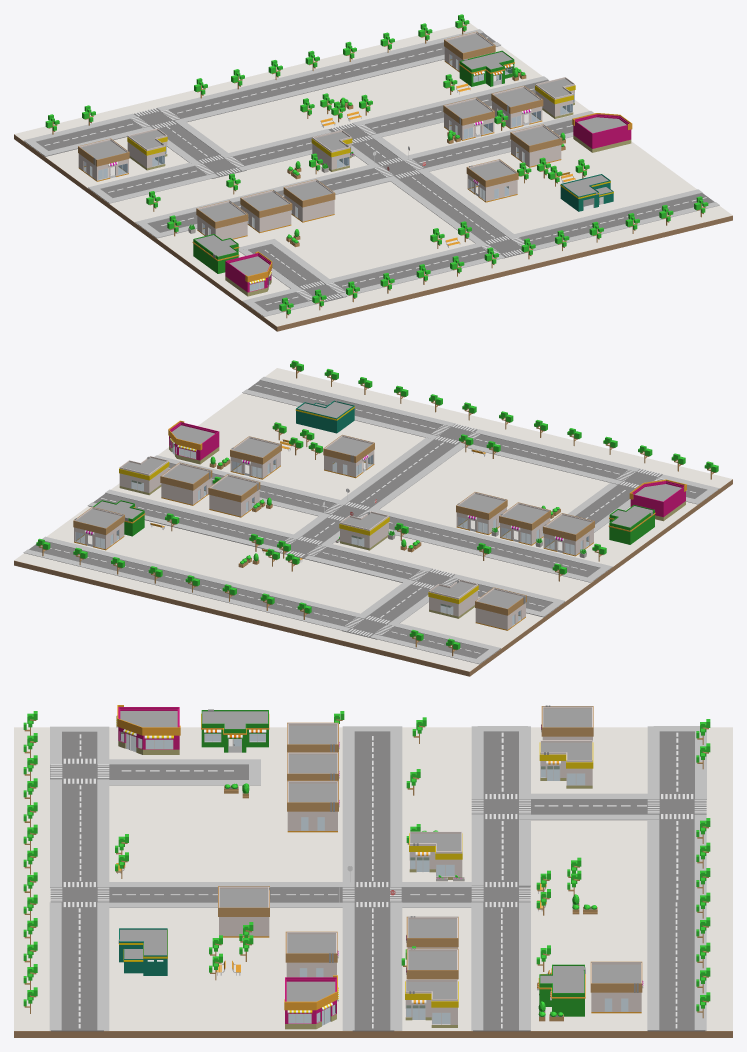
File: Instacart_Project_Background_v2.gltf
3 renders of one model, top to bottom at view 1: azimuth 30°, elevation 25°; view 2: azimuth 150°, elevation 25°; view 3: azimuth 270°, elevation 25°, orthographic. The views are drawn at different scales.
Visible parts, largest first — view 1: Plane, House-Pink Light (×11), Cube.384, Cube.252, Cube, Cube.111, Cube.107, Cube.110, Cube.351, House.1-Mat.5 (×2), House.2-Mat.9 (×2), Cube.27 (+18 smaller); view 2: Plane, House-Pink Light (×12), Cube.384, Cube.252, Cube.111, Cube, Cube.107, Cube.110, Cube.27, Cube.26, House.1-Mat.5 (×2), Cube.351 (+20 smaller); view 3: Plane, Roof (×17), Cube.107, Cube.384, Cube.111, Cube.252, House-Pink Light (×7), Cube, Cube.110, House-Brown (×7), Cube.351, Cube.317 (+28 smaller).
Part boxes in pixels (bbox=[...]): Plane: bbox=[14, 23, 732, 326]; House-Pink Light (×11): bbox=[78, 77, 574, 239]; Cube.384: bbox=[24, 33, 500, 156]; Cube.252: bbox=[254, 193, 714, 316]; Cube: bbox=[14, 134, 732, 331]; Cube.111: bbox=[88, 80, 548, 203]; Cube.107: bbox=[139, 120, 573, 234]; Cube.110: bbox=[343, 124, 527, 258]; Cube.351: bbox=[131, 108, 246, 178]; House.1-Mat.5 (×2): bbox=[225, 114, 631, 292]; House.2-Mat.9 (×2): bbox=[193, 50, 514, 273]; Cube.27: bbox=[157, 29, 483, 111]; Plane: bbox=[14, 368, 732, 671]; House-Pink Light (×12): bbox=[74, 435, 593, 629]; Cube.384: bbox=[29, 541, 500, 664]; Cube.252: bbox=[247, 380, 718, 498]; Cube.111: bbox=[89, 493, 564, 617]; Cube: bbox=[14, 479, 732, 676]; Cube.107: bbox=[168, 463, 607, 580]; Cube.110: bbox=[291, 425, 477, 553]; Cube.27: bbox=[23, 549, 350, 631]; Cube.26: bbox=[42, 536, 363, 618]; House.1-Mat.5 (×2): bbox=[169, 422, 685, 517]; Cube.351: bbox=[342, 569, 457, 639]; Plane: bbox=[14, 727, 732, 1030]; Roof (×17): bbox=[120, 708, 640, 1001]; Cube.107: bbox=[352, 732, 394, 1031]; Cube.384: bbox=[647, 731, 705, 1031]; Cube.111: bbox=[473, 731, 530, 1031]; Cube.252: bbox=[51, 732, 103, 1031]; House-Pink Light (×7): bbox=[219, 740, 641, 1024]; Cube: bbox=[14, 1031, 732, 1037]; Cube.110: bbox=[50, 886, 529, 903]; House-Brown (×7): bbox=[218, 706, 642, 992]; Cube.351: bbox=[471, 795, 706, 818]; Cube.317: bbox=[50, 764, 248, 781].
Bounding box in the file's own units: 2001 × 114 × 2000.
